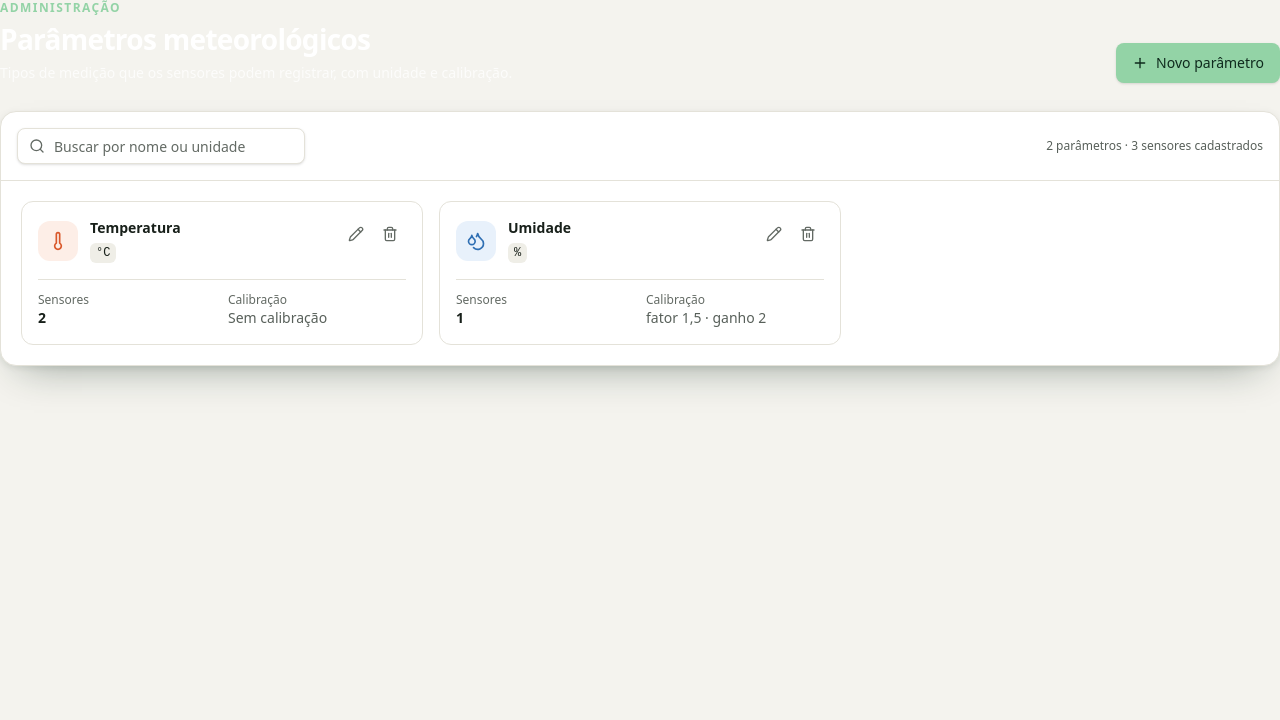
ParametersPage › edita e avisa ao excluir tipo em uso
Click the button named "Editar Umidade" at (774, 234), box x1=758 y1=218 x2=790 y2=250
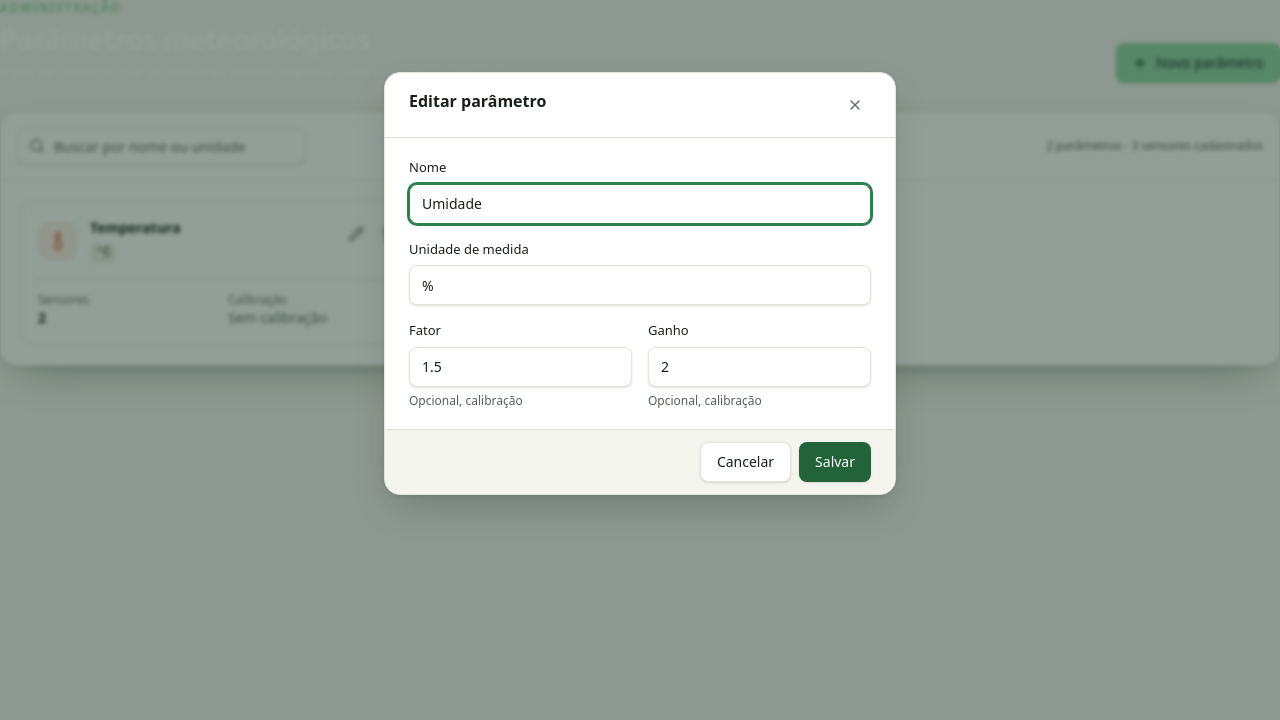
Now the field labelled "Ganho" holds "2", box x1=648 y1=346 x2=871 y2=386
Click the button "Salvar" at (835, 462), box x1=799 y1=442 x2=871 y2=482
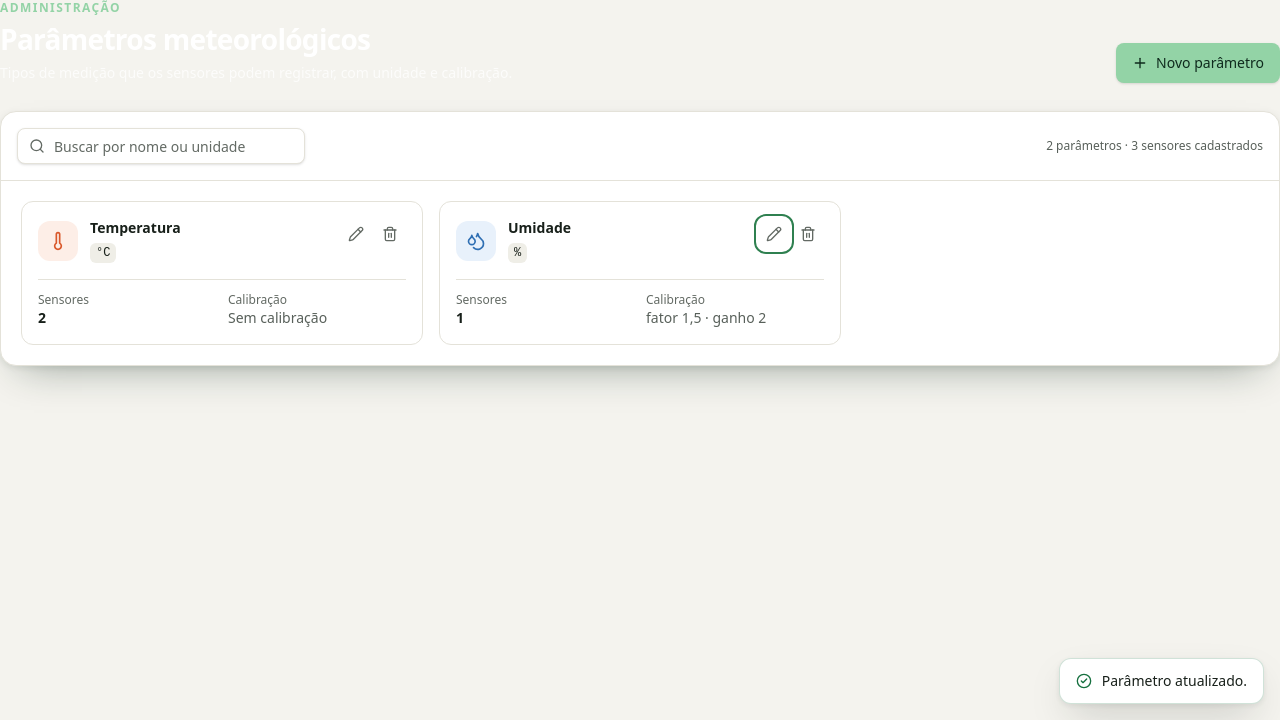
Now the text "Parâmetro atualizado." is shown, box x1=1059 y1=658 x2=1264 y2=704
Click the button named "Excluir Temperatura" at (390, 234), box x1=374 y1=218 x2=406 y2=250
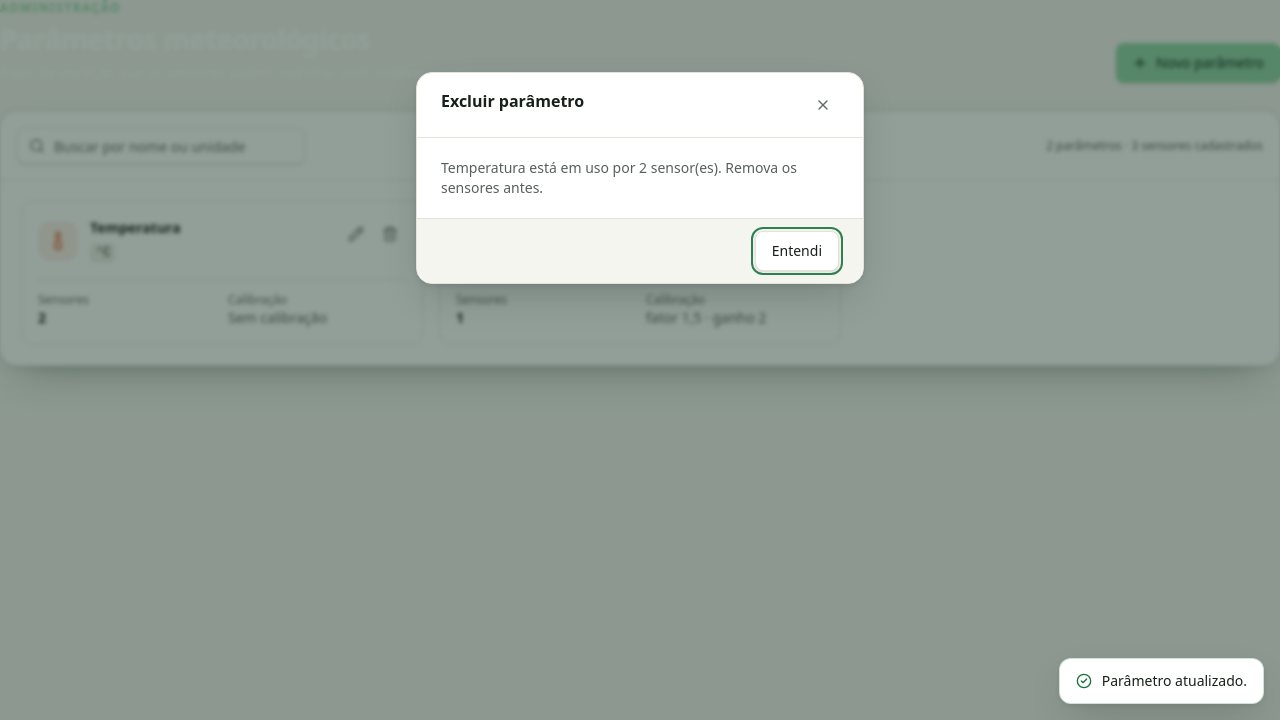
Now the dialog "Excluir parâmetro" shows "está em uso por 2 sensor(es)", box x1=441 y1=158 x2=797 y2=197
Click the button "Entendi" at (797, 251), box x1=755 y1=231 x2=839 y2=271
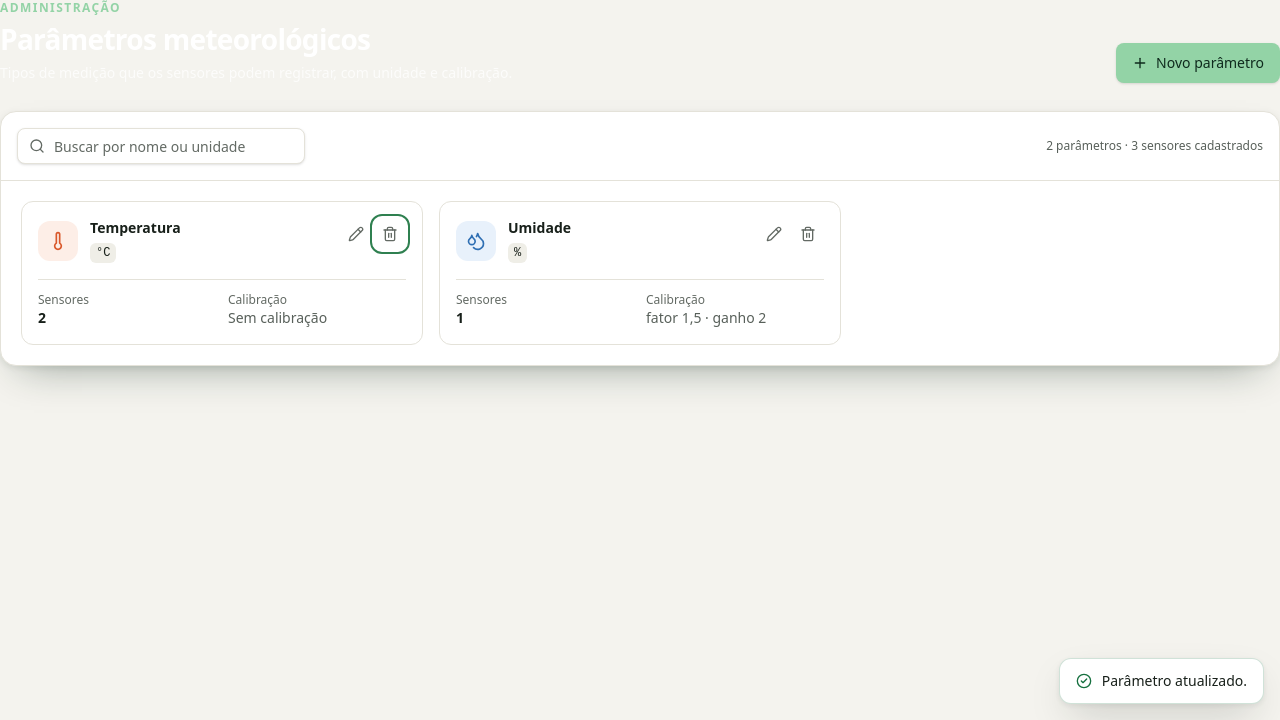
Now the heading "Excluir parâmetro" is gone
